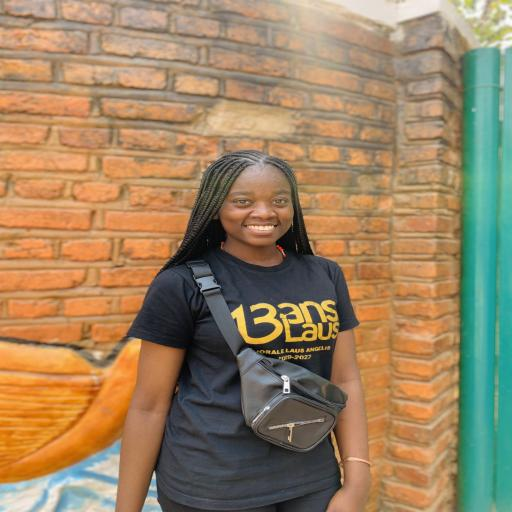LAURENE: (184, 145, 310, 273)
